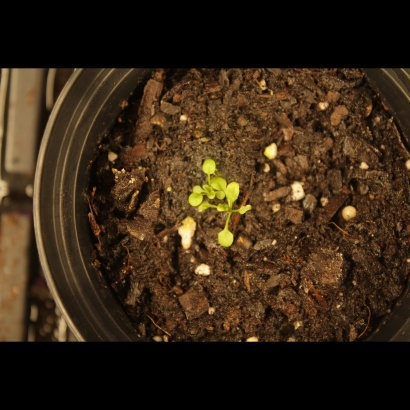leaf: (214, 226, 237, 249), (222, 182, 245, 205), (196, 154, 219, 177), (181, 189, 204, 212), (206, 175, 229, 198), (235, 201, 258, 224)
